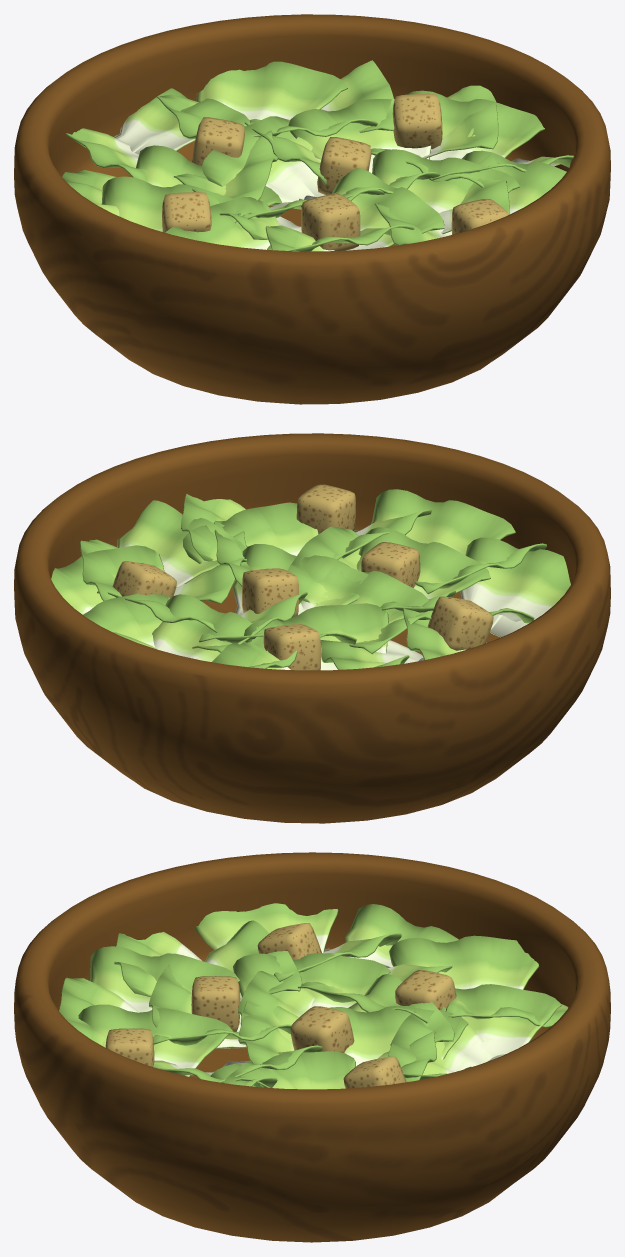
File: CaesarSalad.fbx
3 renders of one model, top to bottom at view 1: azimuth 30°, elevation 25°; view 2: azimuth 150°, elevation 25°; view 3: azimuth 270°, elevation 25°, orthographic.
Visible parts, largest first — view 1: SaladBowl, SaladLeaf.020, SaladLeaf.033, SaladLeaf.032, SaladLeaf.008, SaladLeaf.028, SaladLeaf.021, SaladLeaf.034, SaladLeaf.004, Tofu, Tofu.005, SaladLeaf.010 (+22 smaller); view 2: SaladBowl, SaladLeaf.024, SaladLeaf.029, SaladLeaf.022, SaladLeaf.031, SaladLeaf.009, SaladLeaf.015, SaladLeaf.026, SaladLeaf.027, SaladLeaf.014, SaladLeaf.012, Tofu.004 (+21 smaller); view 3: SaladBowl, SaladLeaf.017, SaladLeaf.005, SaladLeaf.018, SaladLeaf.011, SaladLeaf.007, SaladLeaf.006, SaladLeaf.025, SaladLeaf.031, SaladLeaf.013, SaladLeaf.016, Tofu.001 (+21 smaller).
Boxes of the visible parts, x1,y1,x2,y2 form: SaladBowl: [14, 14, 610, 404]; SaladLeaf.020: [196, 61, 347, 119]; SaladLeaf.033: [372, 149, 519, 212]; SaladLeaf.032: [201, 116, 325, 208]; SaladLeaf.008: [331, 168, 444, 250]; SaladLeaf.028: [288, 99, 431, 173]; SaladLeaf.021: [113, 88, 250, 154]; SaladLeaf.034: [406, 90, 544, 160]; SaladLeaf.004: [101, 176, 250, 231]; Tofu: [301, 193, 360, 250]; Tofu.005: [392, 93, 442, 149]; SaladLeaf.010: [165, 196, 279, 249]; SaladBowl: [14, 433, 610, 823]; SaladLeaf.024: [460, 537, 570, 637]; SaladLeaf.029: [371, 489, 515, 555]; SaladLeaf.022: [117, 500, 245, 586]; SaladLeaf.031: [152, 594, 268, 661]; SaladLeaf.009: [183, 502, 318, 563]; SaladLeaf.015: [244, 603, 388, 670]; SaladLeaf.026: [356, 527, 490, 599]; SaladLeaf.027: [300, 556, 428, 623]; SaladLeaf.014: [51, 545, 164, 614]; SaladLeaf.012: [232, 544, 368, 615]; Tofu.004: [427, 596, 493, 650]; SaladBowl: [14, 852, 610, 1242]; SaladLeaf.017: [389, 935, 539, 989]; SaladLeaf.005: [78, 1004, 233, 1076]; SaladLeaf.018: [455, 984, 561, 1056]; SaladLeaf.011: [233, 953, 390, 1007]; SaladLeaf.007: [90, 946, 239, 1012]; SaladLeaf.006: [329, 1006, 468, 1066]; SaladLeaf.025: [194, 903, 338, 952]; SaladLeaf.031: [388, 1006, 493, 1074]; SaladLeaf.013: [210, 1051, 355, 1089]; SaladLeaf.016: [344, 904, 458, 967]; Tofu.001: [290, 1006, 354, 1052].
Size of the model in its own units: 53.19 by 21.25 by 53.19.
Materials: 38 (38 with a texture image).
